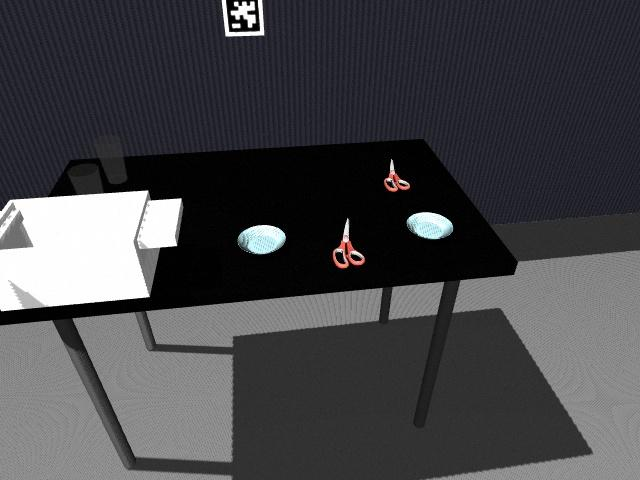cup: (96, 136, 128, 185), (68, 164, 101, 196)
plate: (235, 223, 289, 256), (404, 211, 453, 241)
scissors: (333, 216, 368, 269), (383, 157, 410, 193)
